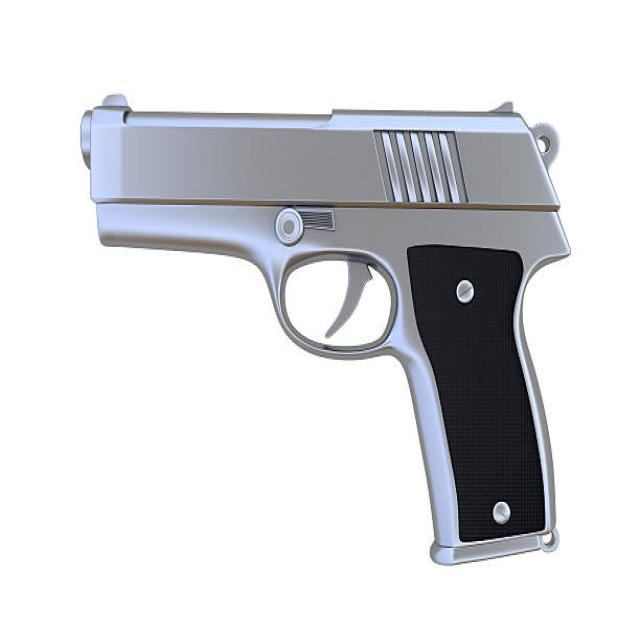pistol: (76, 84, 576, 564)
